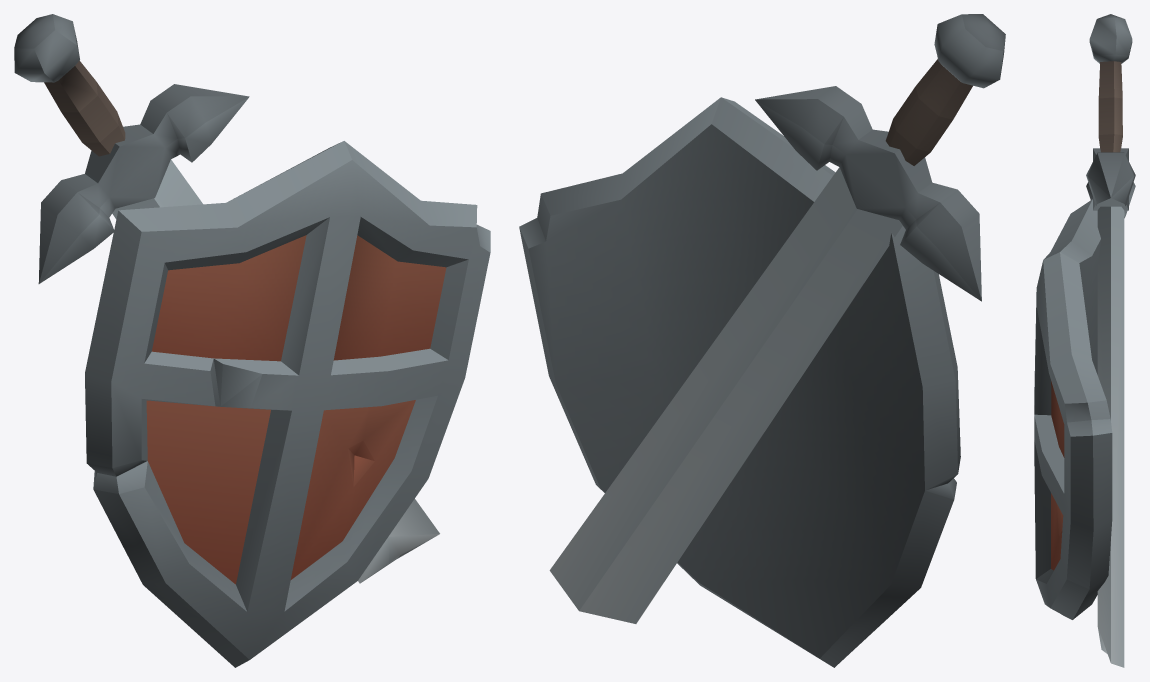
File: sword_shield_broken.gltf
The picture shows the model from 3 angles, left to right: view 1: azimuth 30°, elevation 25°; view 2: azimuth 150°, elevation 25°; view 3: azimuth 270°, elevation 25°; orthographic projection. The views are drawn at different scales.
Parts seen in each view (by area): view 1: sword_shield_broken; view 2: sword_shield_broken; view 3: sword_shield_broken.
Part boxes in pixels (box(x1,y1,x2,y2)): sword_shield_broken: box(14, 14, 490, 667); sword_shield_broken: box(519, 14, 1005, 667); sword_shield_broken: box(1034, 14, 1135, 667).
Size of the model in its own units: 1.43 by 1.96 by 0.3357.
1 material, 1 textured.
